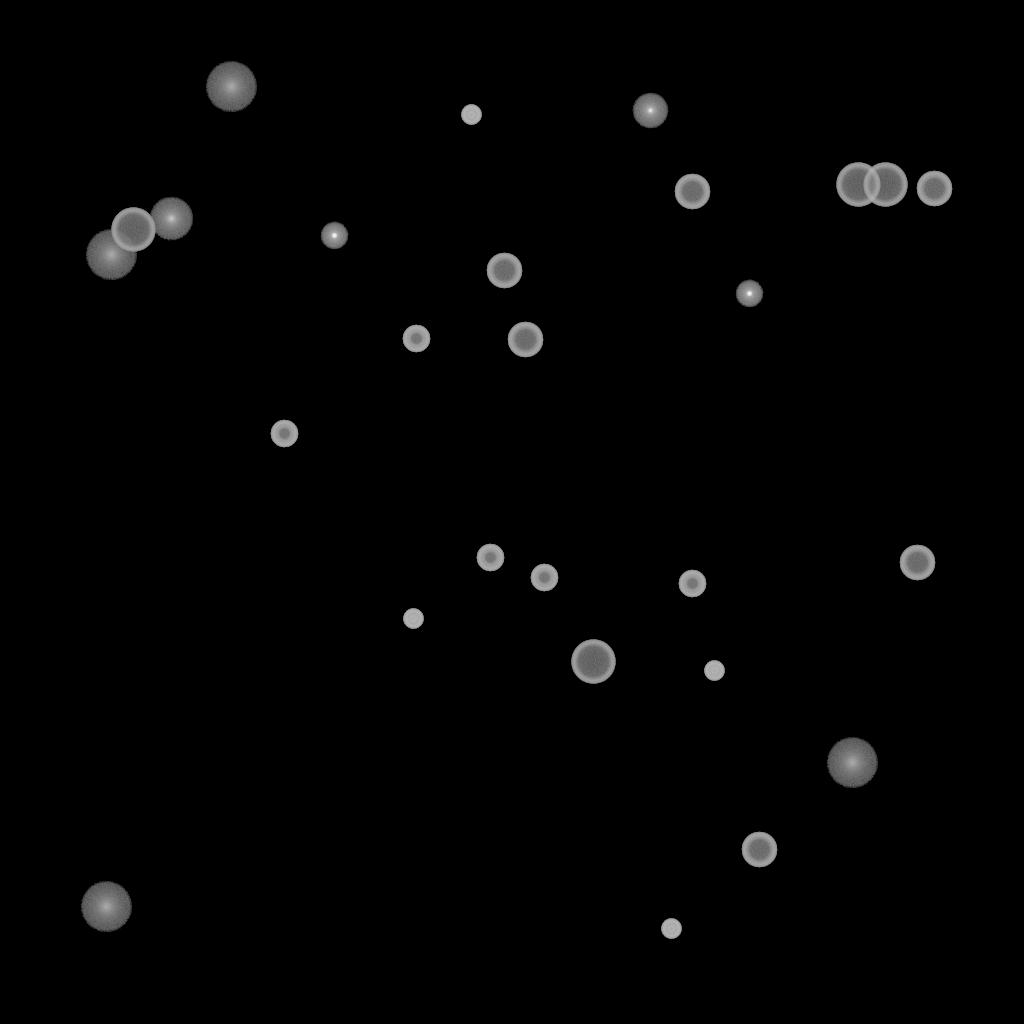depth:-10: (320, 222, 348, 250), (735, 280, 763, 308)
depth:-40: (661, 919, 681, 939), (704, 661, 724, 681), (403, 609, 423, 629), (461, 105, 481, 125)
depth:-50: (476, 544, 504, 572), (530, 564, 558, 592), (678, 570, 706, 598), (270, 420, 298, 448), (402, 325, 430, 353)
depth:-60: (916, 171, 952, 207), (486, 253, 522, 289), (674, 174, 710, 210), (507, 322, 543, 358), (899, 545, 935, 581), (741, 832, 777, 868)
depth:-70: (836, 163, 880, 207), (571, 640, 615, 684), (111, 208, 155, 252), (863, 163, 907, 207)
depth:0: (632, 93, 668, 129)
depth:10: (149, 197, 193, 241)
depth:20: (826, 738, 878, 788), (85, 230, 137, 280), (205, 62, 257, 112), (80, 882, 132, 932)
